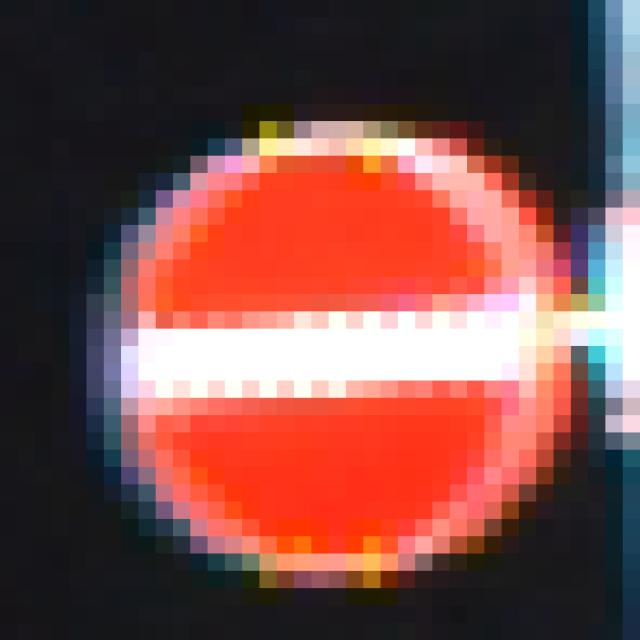No Entry: (88, 88, 537, 555)
